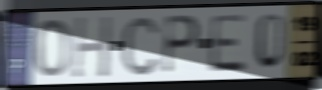0: (253, 12, 285, 72)
C: (120, 13, 161, 79)
E: (208, 12, 249, 75)
H: (70, 14, 113, 80)
O: (33, 17, 71, 80)
P: (161, 14, 202, 76)
